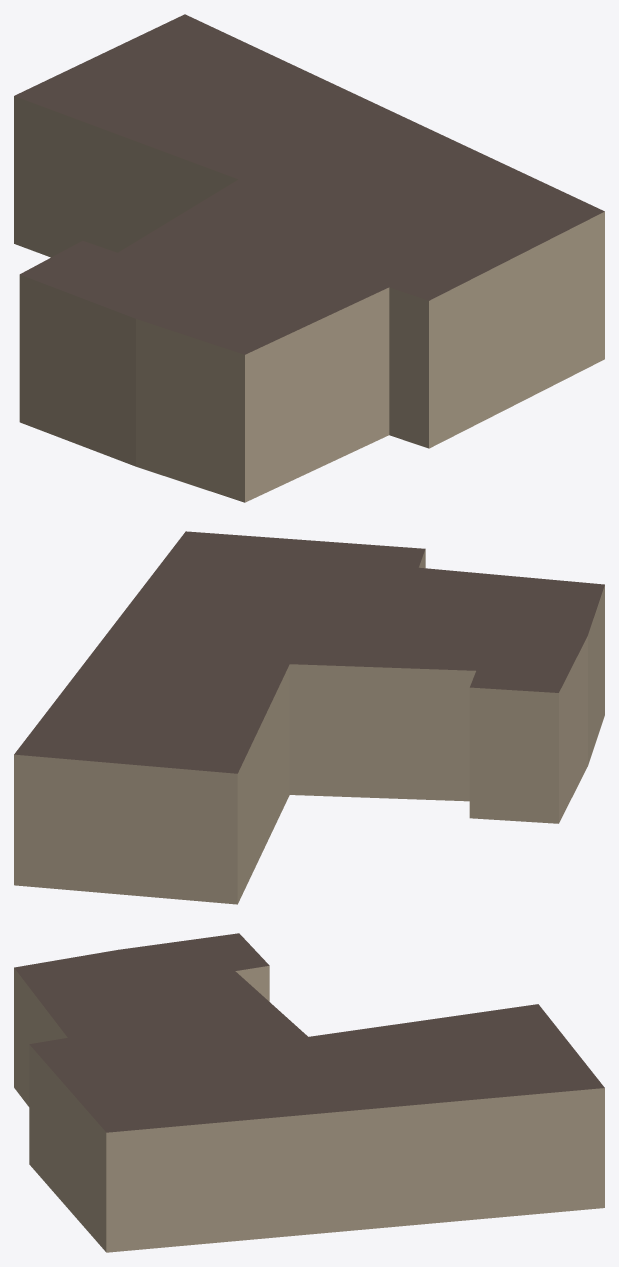
3 renders of one model, top to bottom at view 1: azimuth 30°, elevation 25°; view 2: azimuth 150°, elevation 25°; view 3: azimuth 270°, elevation 25°, orthographic. The views are drawn at different scales.
Parts seen in each view (by area): view 1: HP-w435452363; view 2: HP-w435452363; view 3: HP-w435452363.
Part boxes in pixels (left/top/right/bottom): HP-w435452363: left=14, top=14, right=604, bottom=502; HP-w435452363: left=14, top=531, right=604, bottom=904; HP-w435452363: left=14, top=933, right=604, bottom=1252.
Size of the model in its own units: 32.08 by 9 by 40.17.
